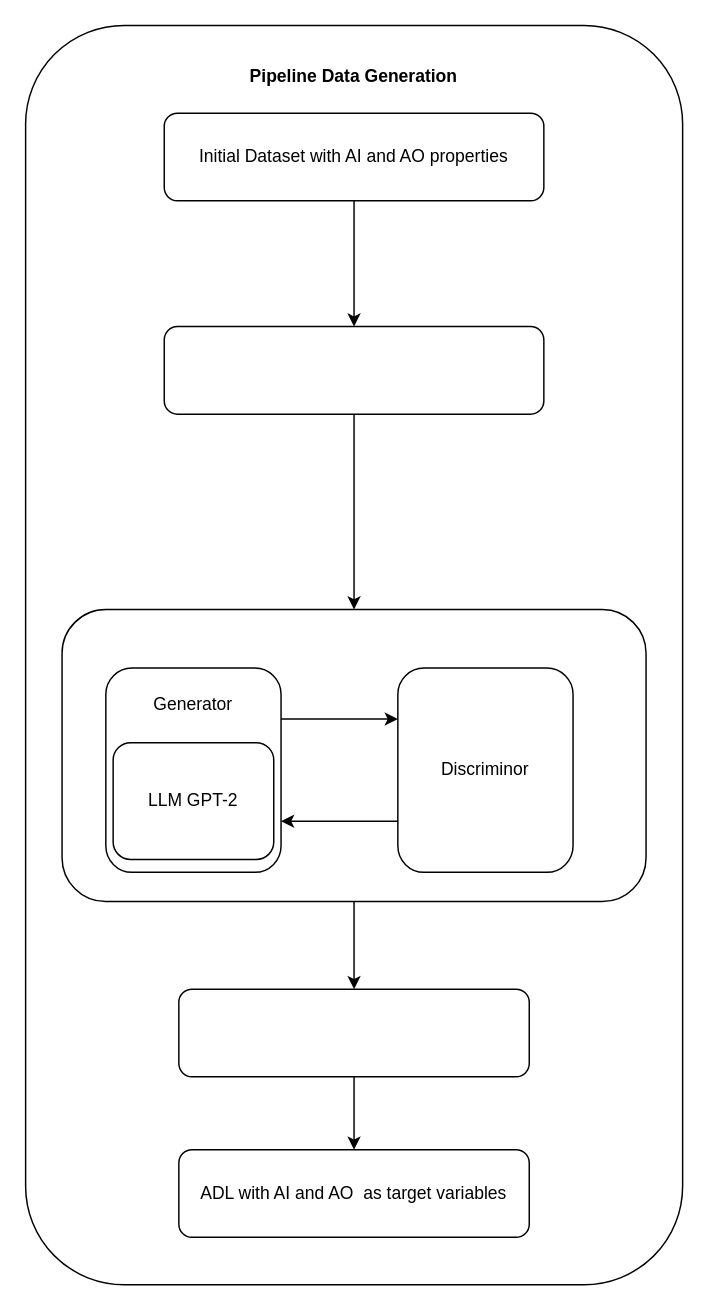
The diagram is 710 pixels wide and 1311 high, and some of its shapes have lost their labels. The shapes that lost their labels are listed below. From the top down, each one's centre as x and y in pixels, then its label:
At pixel 353 369: "Data Augmentation Layer".
At pixel 353 1032: "Filter".
